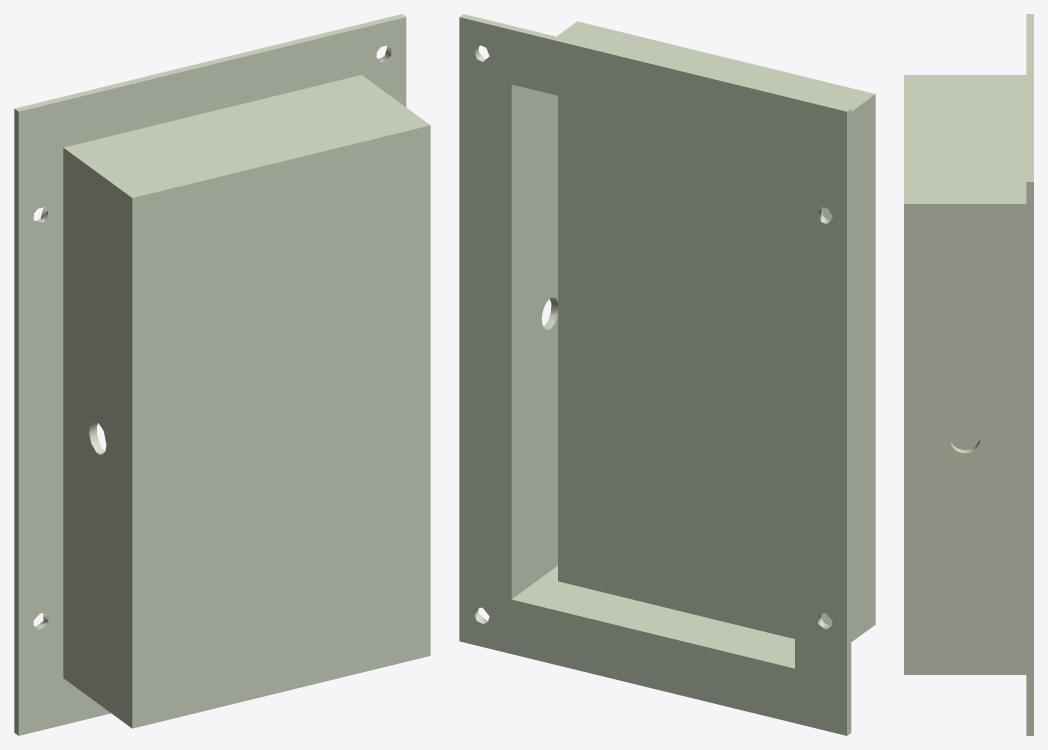
The model's file is sensor-package.dae.
The picture shows the model from 3 angles, left to right: view 1: azimuth 30°, elevation 25°; view 2: azimuth 150°, elevation 25°; view 3: azimuth 270°, elevation 25°; orthographic projection. The views are drawn at different scales.
Parts seen in each view (by area): view 1: tmp_export_sensor-package; view 2: tmp_export_sensor-package; view 3: tmp_export_sensor-package.
Part boxes in pixels (box(x1,y1,x2,y2)): tmp_export_sensor-package: box(14, 14, 430, 735); tmp_export_sensor-package: box(459, 14, 875, 735); tmp_export_sensor-package: box(904, 14, 1033, 735).
Size of the model in its own units: 0.1651 by 0.054 by 0.254.
